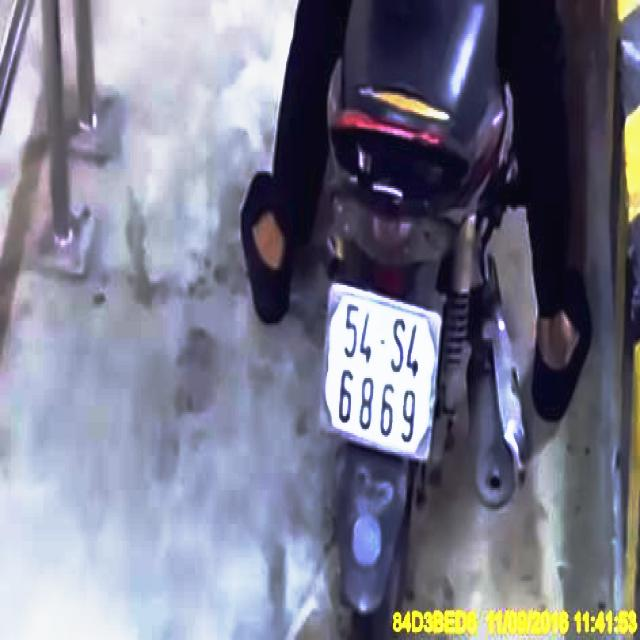license_plate: (321, 287, 446, 464)
